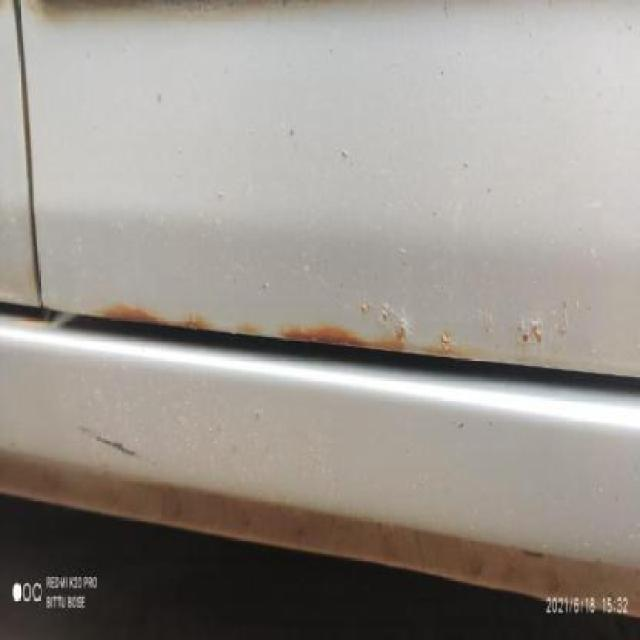RunningBoard-Dent: (46, 328, 402, 570), (406, 351, 639, 625)
